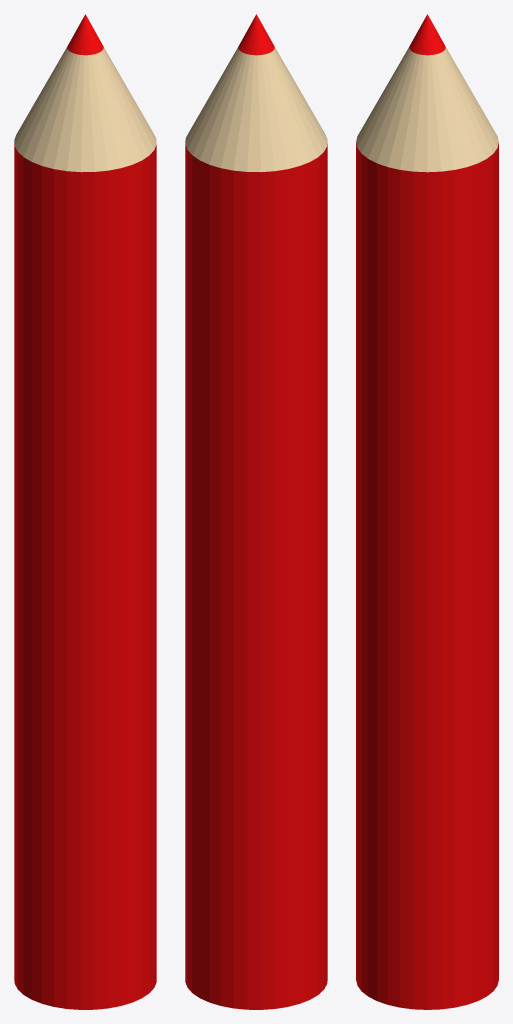
Rendered from kuruboyakirmizi.fbx.
3 renders of one model, left to right at view 1: azimuth 30°, elevation 25°; view 2: azimuth 150°, elevation 25°; view 3: azimuth 270°, elevation 25°, orthographic.
Visible parts, largest first — view 1: Cylinder; view 2: Cylinder; view 3: Cylinder.
Boxes of the visible parts, <box> form: Cylinder: <box>14,14,156,1009</box>; Cylinder: <box>185,14,327,1009</box>; Cylinder: <box>356,14,498,1009</box>.
Bounding box in the file's own units: 200 × 1492 × 200.
